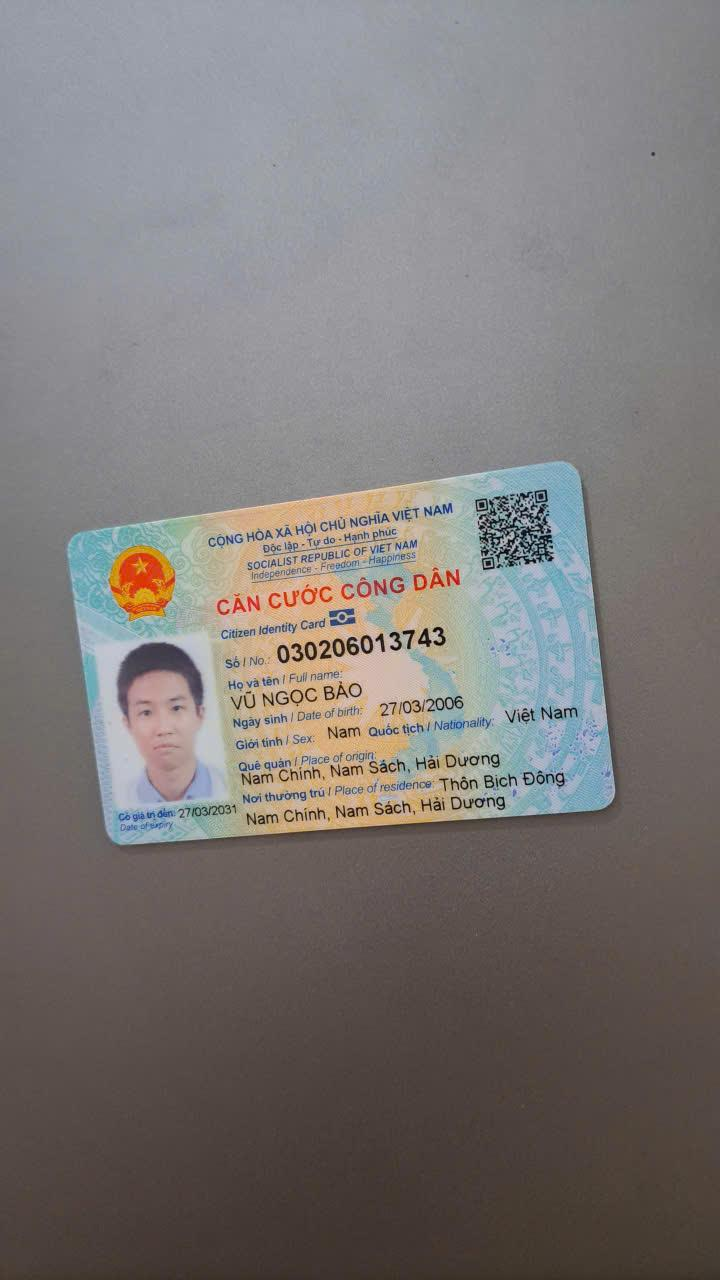cccd: (58, 455, 620, 855)
